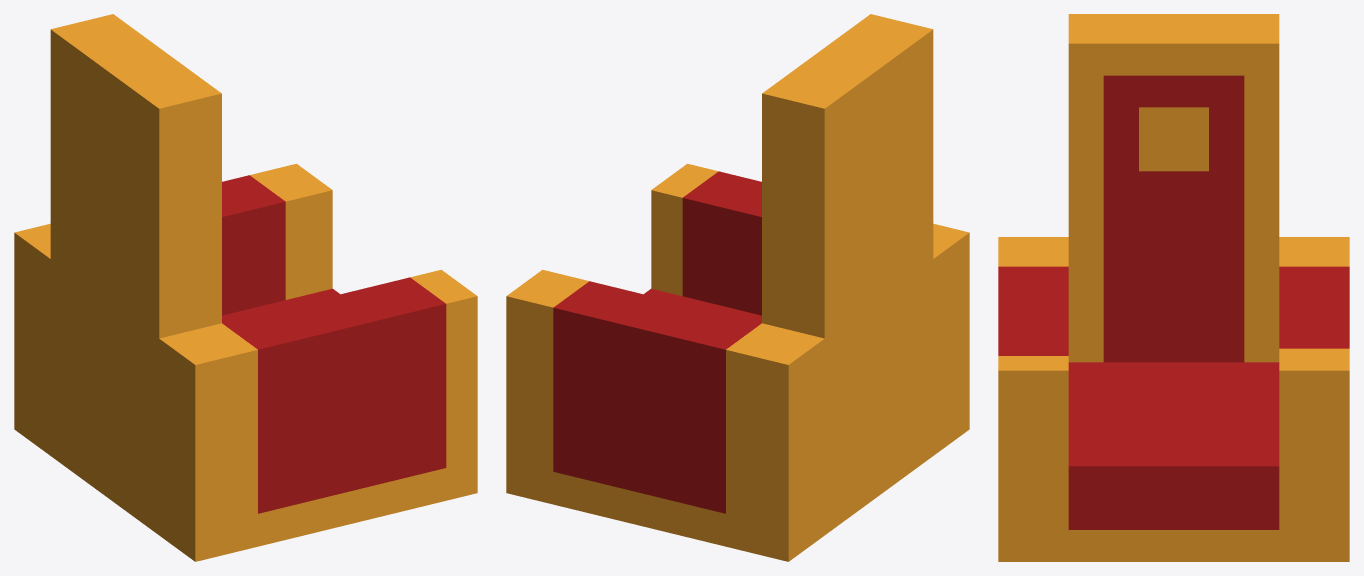
File: throne.obj
The picture shows the model from 3 angles, left to right: view 1: azimuth 30°, elevation 25°; view 2: azimuth 150°, elevation 25°; view 3: azimuth 270°, elevation 25°; orthographic projection. The views are drawn at different scales.
Bounding box in the file's own units: 1.8 × 2.6 × 2.
1 material, 1 textured.
